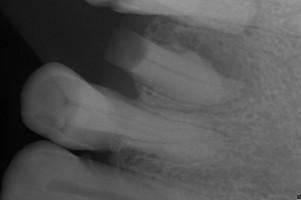Furcation Involvement: (178, 30, 260, 109)
